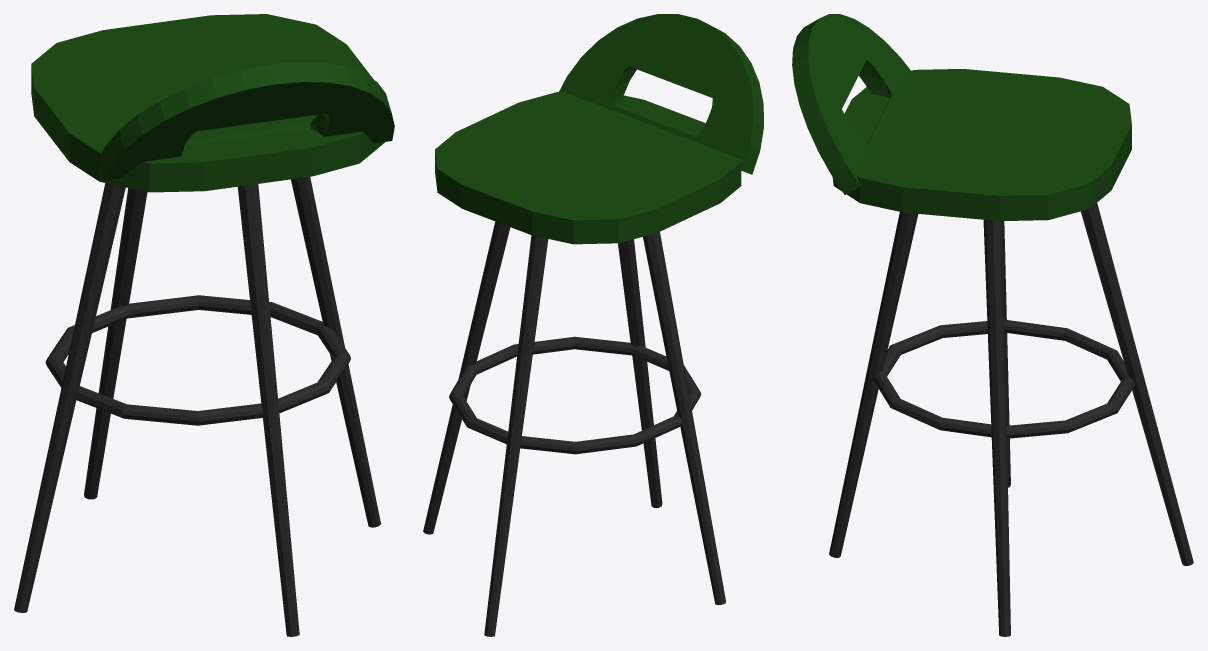
Rendered from hunters_wimb_barstool.fbx.
3 views of the same model, side by side, from view 1: azimuth 30°, elevation 25°; view 2: azimuth 150°, elevation 25°; view 3: azimuth 270°, elevation 25° (orthographic). The views are drawn at different scales.
Visible parts, largest first — view 1: Barstool.003; view 2: Barstool.003; view 3: Barstool.003.
Boxes of the visible parts, x1,y1,x2,y2 form: Barstool.003: (14,14,394,636); Barstool.003: (423,14,763,636); Barstool.003: (792,14,1193,636).
Size of the model in its own units: 31.52 by 49.31 by 34.41.
